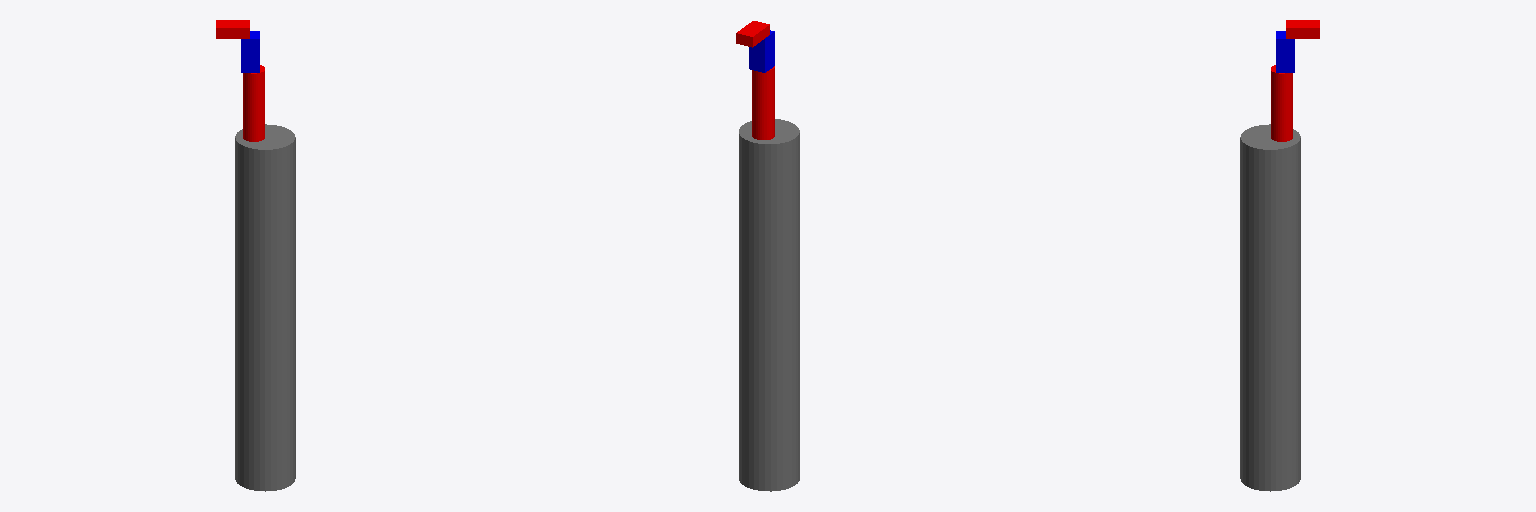
The robot description file, URDF, robot "generated_robot":
<?xml version="1.0"?>
<robot name="generated_robot">
  <mujoco >
    <compiler discardvisual="false"/>
  </mujoco>
  <link name="world"/>
  <joint name="world_to_body" type="fixed">
    <parent link="world"/>
    <child link="body"/>
    <origin xyz="0 0 1.0" rpy="0 0 0"/>
  </joint>
  <link name="body">
    <visual >
      <origin xyz="0 0 -0.5" rpy="0 0 0"/>
      <geometry >
        <cylinder radius="0.0800" length="1.0"/>
      </geometry>
      <material name="grey">
        <color rgba="0.5 0.5 0.5 1.0"/>
      </material>
    </visual>
    <inertial >
      <mass value="10.0"/>
      <inertia ixx="0.01" ixy="0" ixz="0" iyy="0.01" iyz="0" izz="0.01"/>
    </inertial>
  </link>
  <joint name="joint_0" type="revolute">
    <parent link="body"/>
    <child link="link_0"/>
    <origin xyz="0.0 0.02 0.0" rpy="0.0000 0.0000 0.0000"/>
    <axis xyz="0 1 0"/>
    <limit lower="-3.1416" upper="3.1416" effort="10" velocity="1"/>
  </joint>
  <link name="link_0">
    <visual >
      <origin xyz="0.0000 0.0100 0.1000" rpy="0.0000 0.0000 0.0000"/>
      <geometry >
        <cylinder radius="0.0300" length="0.2000"/>
      </geometry>
      <material name="mat_0">
        <color rgba="1.0 0.0 0.0 1.0"/>
      </material>
    </visual>
    <inertial >
      <mass value="1.0"/>
      <inertia ixx="0.01" ixy="0" ixz="0" iyy="0.01" iyz="0" izz="0.01"/>
    </inertial>
  </link>
  <joint name="joint_1" type="revolute">
    <parent link="link_0"/>
    <child link="link_1"/>
    <origin xyz="0.0 0.02 0.2" rpy="0.0000 0.0000 0.0000"/>
    <axis xyz="1 0 0"/>
    <limit lower="-3.1416" upper="3.1416" effort="10" velocity="1"/>
  </joint>
  <link name="link_1">
    <visual >
      <origin xyz="0.0000 0.0000 0.0500" rpy="0 0 0"/>
      <geometry >
        <box size="0.0500 0.0500 0.1000"/>
      </geometry>
      <material name="mat_1">
        <color rgba="0.0 0.0 1.0 1.0"/>
      </material>
    </visual>
    <inertial >
      <mass value="1.0"/>
      <inertia ixx="0.01" ixy="0" ixz="0" iyy="0.01" iyz="0" izz="0.01"/>
    </inertial>
  </link>
  <joint name="joint_2" type="revolute">
    <parent link="link_1"/>
    <child link="link_2"/>
    <origin xyz="0.0 0.0 0.1" rpy="0.0000 0.0000 0.0000"/>
    <axis xyz="1 0 0"/>
    <limit lower="-3.1416" upper="3.1416" effort="10" velocity="1"/>
  </joint>
  <link name="link_2">
    <visual >
      <origin xyz="0.0000 0.0450 0.0150" rpy="0 0 0"/>
      <geometry >
        <box size="0.0500 0.0900 0.0300"/>
      </geometry>
      <material name="mat_2">
        <color rgba="1.0 0.0 0.0 1.0"/>
      </material>
    </visual>
    <inertial >
      <mass value="1.0"/>
      <inertia ixx="0.01" ixy="0" ixz="0" iyy="0.01" iyz="0" izz="0.01"/>
    </inertial>
  </link>
  <joint name="joint_3" type="revolute">
    <parent link="link_2"/>
    <child link="link_3"/>
    <origin xyz="0.0 0.09 0.03" rpy="0.0000 0.0000 0.0000"/>
    <axis xyz="1 0 0"/>
    <limit lower="-3.1416" upper="3.1416" effort="10" velocity="1"/>
  </joint>
  <link name="link_3">
    <inertial >
      <mass value="1.0"/>
      <inertia ixx="0.01" ixy="0" ixz="0" iyy="0.01" iyz="0" izz="0.01"/>
    </inertial>
  </link>
</robot>

--- Facts derived from the render (not from the file) ---
The picture shows the robot from 3 angles, left to right: view 1: azimuth 90°, elevation 25°; view 2: azimuth 150°, elevation 25°; view 3: azimuth 270°, elevation 25°; orthographic projection.
Model generated_robot with 6 links and 5 joints (4 revolute, 1 fixed), rooted at world, posed all joints at 0.
Links seen in each view (by area): view 1: body, link_0, link_1, link_2; view 2: body, link_0, link_1, link_2; view 3: body, link_0, link_1, link_2.
Link boxes in pixels (box(x1,y1,x2,y2)): body: box(235, 124, 295, 491); link_0: box(243, 65, 264, 141); link_1: box(241, 31, 259, 72); link_2: box(216, 20, 249, 38); body: box(739, 119, 799, 491); link_0: box(752, 66, 774, 139); link_1: box(749, 30, 774, 72); link_2: box(736, 21, 769, 47); body: box(1240, 124, 1300, 491); link_0: box(1271, 65, 1292, 141); link_1: box(1276, 31, 1294, 72); link_2: box(1286, 20, 1319, 38).
Size in the robot's own frame: 0.16 by 0.21 by 1.33 metres.
Geometry: primitives only (box / cylinder / sphere), no mesh files.
